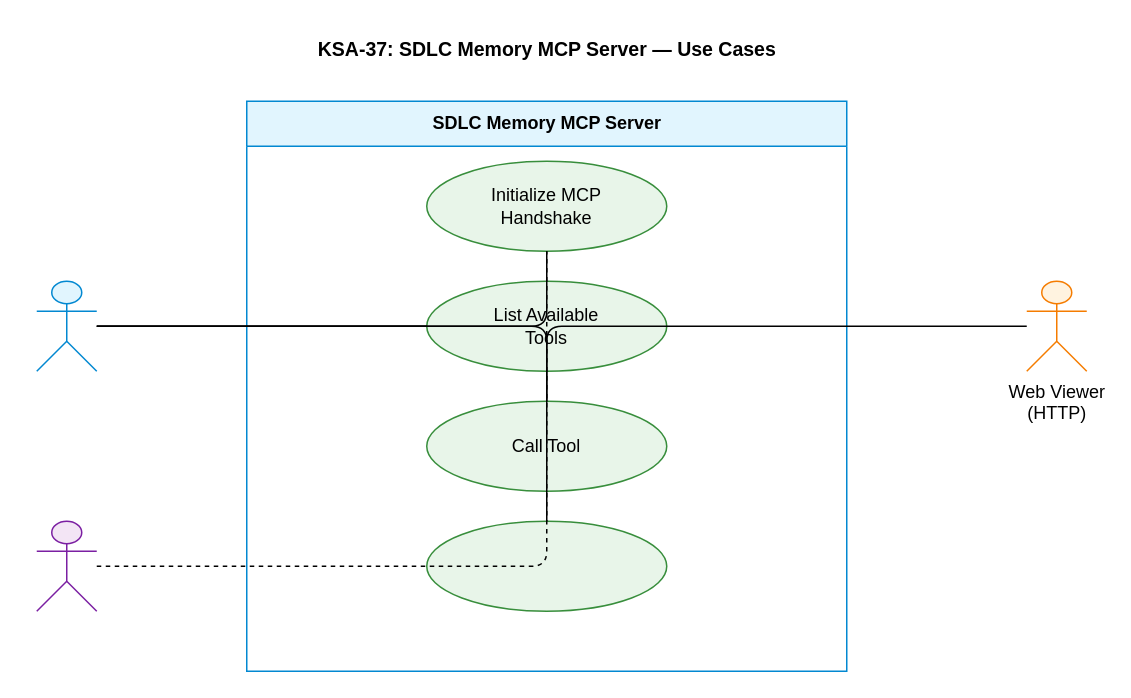
Some shapes in this 1131 by 698 pixel diagram are drawn without their labels. Each missing label, with the centre of its shape:
"Check Health Status" belongs at (x=546, y=565).
"Developer (CLI)" belongs at (x=66, y=565).
"Kiro Agent (stdio)" belongs at (x=66, y=325).
